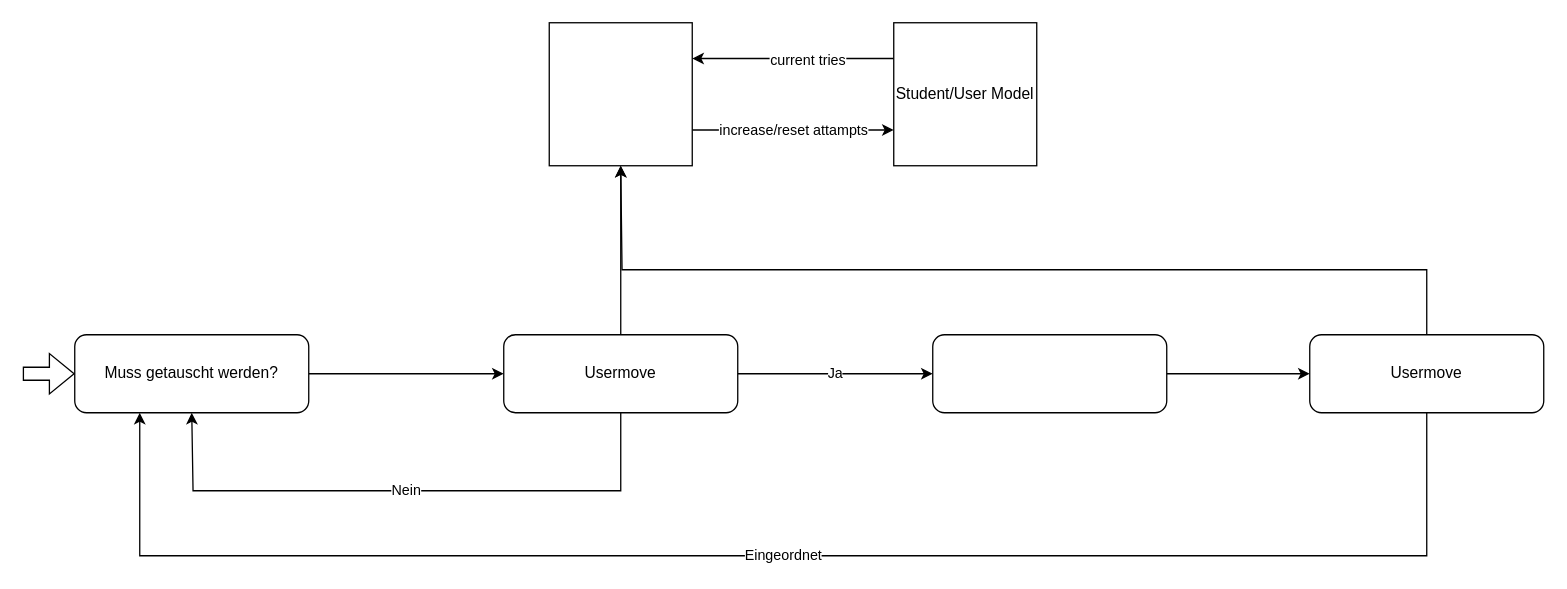
The diagram is 1567 pixels wide and 589 high, and some of its shapes have lost their labels. Here are the shapes that lost their labels. From the top down, the box of each, then its label:
(548, 21, 692, 166): Tutor-Model
(931, 333, 1167, 413): Ordne ein
